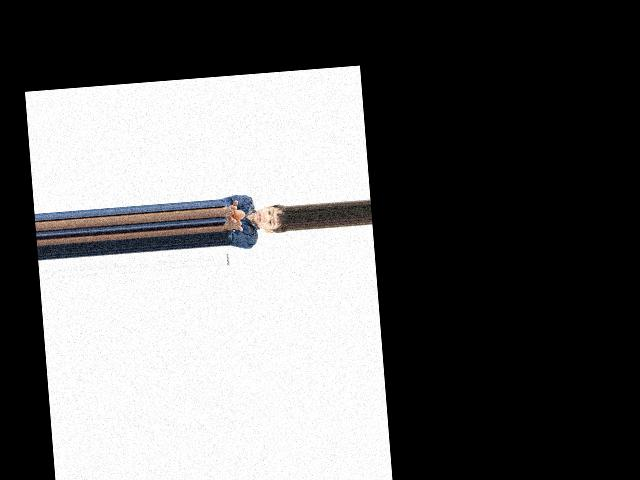egg: (231, 209, 245, 220)
